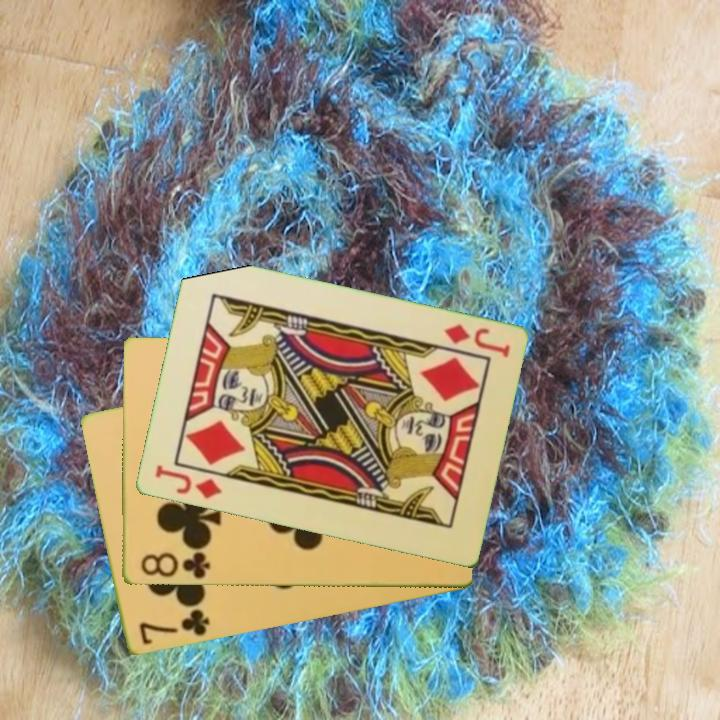7c: (135, 606, 212, 648)
8c: (137, 549, 213, 582)
Jd: (151, 462, 224, 503), (440, 321, 513, 361)
